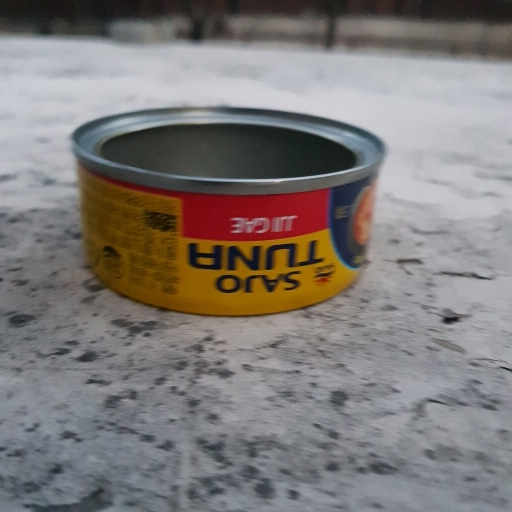Metal_1: (68, 102, 388, 317)
